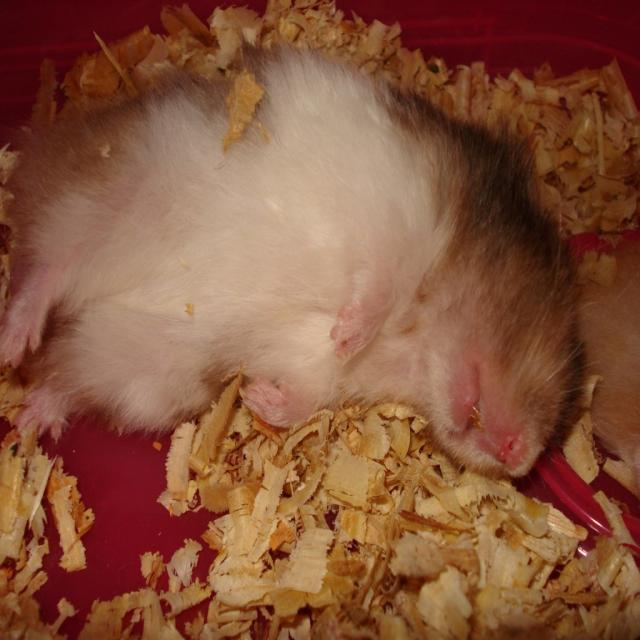rat: (0, 51, 580, 478)
